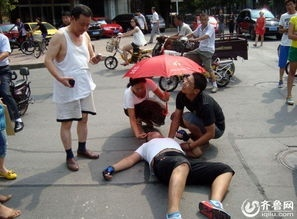falling: (93, 121, 240, 218)
